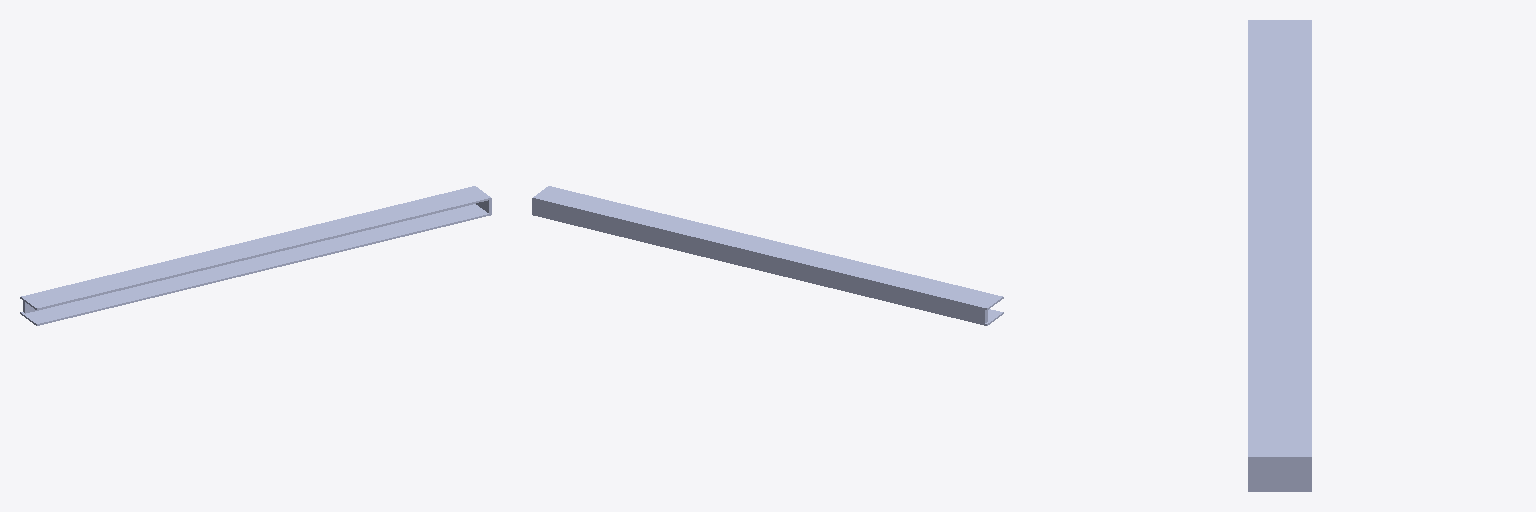
The robot description file, URDF, robot "slot":
<robot
  name="slot">
  <link
    name="base_link">
    <inertial>
      <origin
        xyz="0.129515317786923 0.000392470659963994 0.515"
        rpy="0 0 0" />
      <mass
        value="0.03296" />
      <inertia
        ixx="2.82357333333334E-06"
        ixy="-3.37495448380618E-36"
        ixz="-1.396680880802E-19"
        iyy="0.000731297253333334"
        iyz="-1.51377645420539E-23"
        izz="0.000728495653333334" />
    </inertial>
    <visual>
      <origin
        xyz="0 0 0"
        rpy="0 0 0" />
      <geometry>
        <mesh
          filename="package://slot/meshes/base_link.STL" />
      </geometry>
      <material
        name="">
        <color
          rgba="0.792156862745098 0.819607843137255 0.933333333333333 1" />
      </material>
    </visual>
    <collision>
      <origin
        xyz="0 0 0"
        rpy="0 0 0" />
      <geometry>
        <mesh
          filename="package://slot/meshes/base_link.STL" />
      </geometry>
    </collision>
  </link>
  <link
    name="slot_side-2">
    <inertial>
      <origin
        xyz="0.00125000000000003 0.0075 -0.016"
        rpy="0 0 0" />
      <mass
        value="0.0012" />
      <inertia
        ixx="1.249E-07"
        ixy="2.20581496680795E-25"
        ixz="4.41162993361634E-25"
        iyy="1.03025E-07"
        iyz="1.88649805759728E-40"
        izz="2.3125E-08" />
    </inertial>
    <visual>
      <origin
        xyz="0 0 0"
        rpy="0 0 0" />
      <geometry>
        <mesh
          filename="package://slot/meshes/slot_side-2.STL" />
      </geometry>
      <material
        name="">
        <color
          rgba="0.792156862745098 0.819607843137255 0.933333333333333 1" />
      </material>
    </visual>
    <collision>
      <origin
        xyz="0 0 0"
        rpy="0 0 0" />
      <geometry>
        <mesh
          filename="package://slot/meshes/slot_side-2.STL" />
      </geometry>
    </collision>
  </link>
  <joint
    name="slot_side-2-joint"
    type="fixed">
    <origin
      xyz="0.384515317786923 -0.531 0.00139247065996403"
      rpy="1.5707963267949 0 0" />
    <parent
      link="base_link" />
    <child
      link="slot_side-2" />
    <axis
      xyz="0 0 0" />
  </joint>
  <link
    name="slot_side-1">
    <inertial>
      <origin
        xyz="0.00125 0.0075 -0.016"
        rpy="0 0 0" />
      <mass
        value="0.0012" />
      <inertia
        ixx="1.249E-07"
        ixy="0"
        ixz="0"
        iyy="1.03025E-07"
        iyz="1.88649805759728E-40"
        izz="2.3125E-08" />
    </inertial>
    <visual>
      <origin
        xyz="0 0 0"
        rpy="0 0 0" />
      <geometry>
        <mesh
          filename="package://slot/meshes/slot_side-1.STL" />
      </geometry>
      <material
        name="">
        <color
          rgba="0.792156862745098 0.819607843137255 0.933333333333333 1" />
      </material>
    </visual>
    <collision>
      <origin
        xyz="0 0 0"
        rpy="0 0 0" />
      <geometry>
        <mesh
          filename="package://slot/meshes/slot_side-1.STL" />
      </geometry>
    </collision>
  </link>
  <joint
    name="slot_side-1-joint"
    type="fixed">
    <origin
      xyz="-0.127984682213077 -0.531 0.00139247065996403"
      rpy="1.5707963267949 0 0" />
    <parent
      link="base_link" />
    <child
      link="slot_side-1" />
    <axis
      xyz="0 0 0" />
  </joint>
  <link
    name="slot_back-1">
    <inertial>
      <origin
        xyz="0.255 0.0075 -0.00250000000000006"
        rpy="0 0 0" />
      <mass
        value="0.03825" />
      <inertia
        ixx="7.96875000000001E-07"
        ixy="-4.99585099099472E-35"
        ixz="-7.3233056898027E-22"
        iyy="0.000829148437500001"
        iyz="-1.06726737744559E-39"
        izz="0.000829785937500001" />
    </inertial>
    <visual>
      <origin
        xyz="0 0 0"
        rpy="0 0 0" />
      <geometry>
        <mesh
          filename="package://slot/meshes/slot_back-1.STL" />
      </geometry>
      <material
        name="">
        <color
          rgba="0.792156862745098 0.819607843137255 0.933333333333333 1" />
      </material>
    </visual>
    <collision>
      <origin
        xyz="0 0 0"
        rpy="0 0 0" />
      <geometry>
        <mesh
          filename="package://slot/meshes/slot_back-1.STL" />
      </geometry>
    </collision>
  </link>
  <joint
    name="slot_back-1-joint"
    type="fixed">
    <origin
      xyz="-0.125484682213077 -0.504 0.00139247065996403"
      rpy="1.5707963267949 0 0" />
    <parent
      link="base_link" />
    <child
      link="slot_back-1" />
    <axis
      xyz="0 0 0" />
  </joint>
  <link
    name="slot-2">
    <inertial>
      <origin
        xyz="-0.2575 0.000999999999999997 -0.016"
        rpy="0 0 0" />
      <mass
        value="0.0329600000000001" />
      <inertia
        ixx="2.82357333333334E-06"
        ixy="-2.24996965587078E-36"
        ixz="-1.39678675992041E-19"
        iyy="0.000731297253333335"
        iyz="-1.5137764542054E-23"
        izz="0.000728495653333335" />
    </inertial>
    <visual>
      <origin
        xyz="0 0 0"
        rpy="0 0 0" />
      <geometry>
        <mesh
          filename="package://slot/meshes/slot-2.STL" />
      </geometry>
      <material
        name="">
        <color
          rgba="0.792156862745098 0.819607843137255 0.933333333333333 1" />
      </material>
    </visual>
    <collision>
      <origin
        xyz="0 0 0"
        rpy="0 0 0" />
      <geometry>
        <mesh
          filename="package://slot/meshes/slot-2.STL" />
      </geometry>
    </collision>
  </link>
  <joint
    name="slot-2-joint"
    type="fixed">
    <origin
      xyz="0.387015317786923 -0.531 0.016392470659964"
      rpy="1.5707963267949 0 0" />
    <parent
      link="base_link" />
    <child
      link="slot-2" />
    <axis
      xyz="0 0 0" />
  </joint>
</robot>

--- What the picture shows (computed from the rendered views, not written in the file) ---
3 views of the same robot in one strip: view 1: azimuth 30°, elevation 25°; view 2: azimuth 150°, elevation 25°; view 3: azimuth 270°, elevation 25° (orthographic).
Robot: slot — 5 links, 4 joints (4 fixed); root link base_link; default pose: every joint at zero.
Visible links, largest first — view 1: slot-2, base_link; view 2: slot-2, slot_back-1, base_link; view 3: slot-2, slot_side-2.
Link boxes in pixels (x1,y1,x2,y2): slot-2: [20, 186, 491, 309]; base_link: [20, 204, 491, 325]; slot-2: [532, 186, 1003, 309]; slot_back-1: [535, 200, 987, 323]; base_link: [532, 213, 1003, 325]; slot-2: [1248, 20, 1311, 460]; slot_side-2: [1248, 461, 1311, 487].
Bounding box of the posed robot: 0.515 × 0.032 × 0.019 m (x, y, z).
4 mesh visuals loaded from 5 distinct referenced files (4 binary STL); not drawn: 1 (reference not matched to a file when rendering).